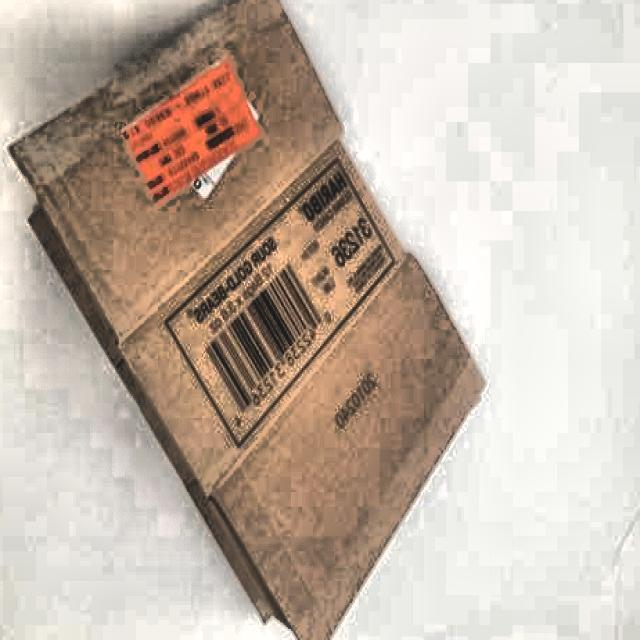cardboard: (8, 0, 488, 640)
